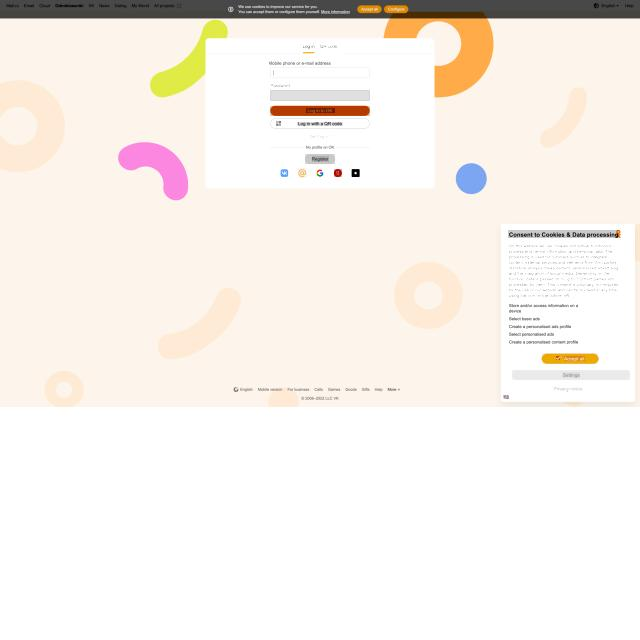CheckBox: (512, 370, 630, 380), (270, 118, 370, 129), (270, 106, 370, 116), (542, 353, 598, 364), (305, 154, 335, 164), (307, 133, 333, 140)
CheckedTextView: (270, 90, 370, 101), (270, 68, 370, 78)
Input field: (508, 243, 621, 300)
breadcrumbs: (508, 230, 619, 238)
carousel: (280, 168, 289, 178), (298, 168, 307, 178), (351, 169, 360, 177), (316, 169, 324, 177), (334, 169, 342, 177), (276, 120, 282, 126), (556, 356, 560, 360)
data feed: (270, 60, 334, 66), (297, 122, 343, 126), (553, 386, 583, 391), (306, 108, 335, 113), (270, 83, 290, 89), (562, 372, 580, 378), (564, 356, 585, 361), (312, 156, 329, 162)
header: (500, 224, 636, 401), (0, 0, 640, 18)
icon: (301, 43, 341, 55)
